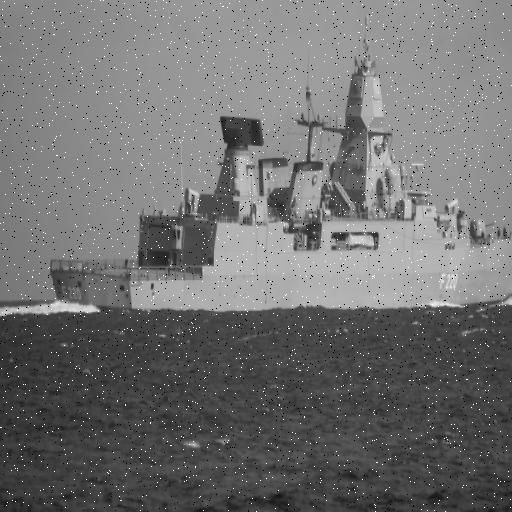Fragata: (49, 1, 512, 319)
